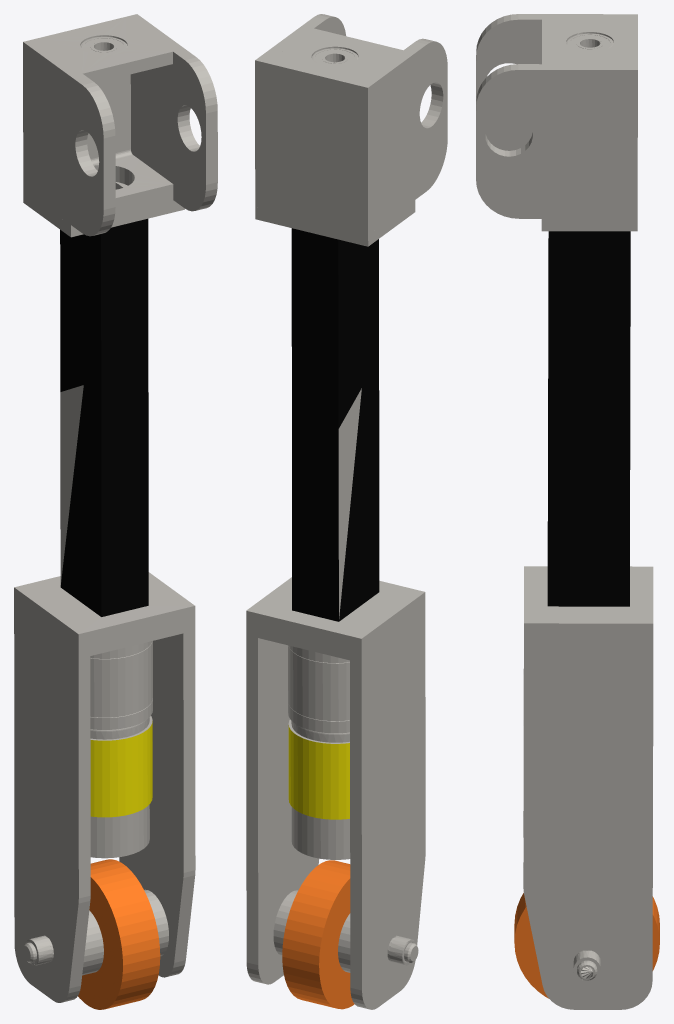
Rendered from hombro.obj.
3 views of the same model, side by side, from view 1: azimuth 30°, elevation 25°; view 2: azimuth 150°, elevation 25°; view 3: azimuth 270°, elevation 25° (orthographic).
Visible parts, largest first — view 1: Object.1; view 2: Object.1; view 3: Object.1.
Part boxes in pixels (box(x1,y1,x2,y2)): Object.1: box(14, 14, 217, 1009); Object.1: box(246, 14, 447, 1009); Object.1: box(476, 14, 659, 1009).
Bounding box in the file's own units: 85.7 × 490 × 85.32.
